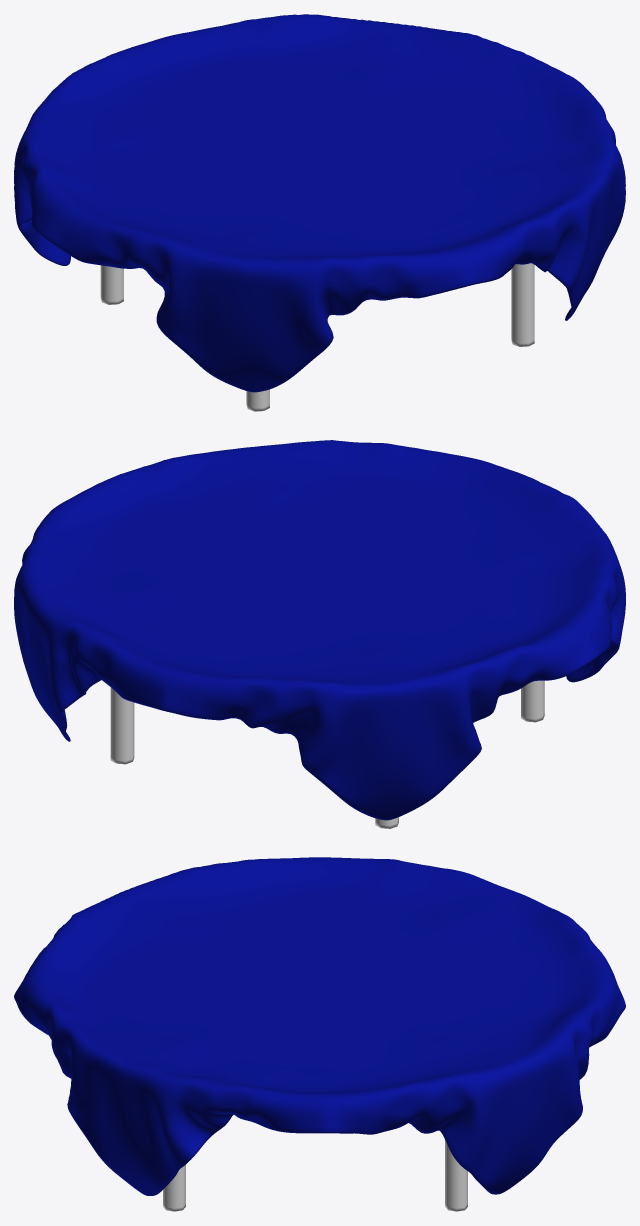
The model's file is coffe table.fbx.
3 views of the same model, one above another, from view 1: azimuth 30°, elevation 25°; view 2: azimuth 150°, elevation 25°; view 3: azimuth 270°, elevation 25° (orthographic). The views are drawn at different scales.
Visible parts, largest first — view 1: Circle; view 2: Circle; view 3: Circle.
Boxes of the visible parts, x1,y1,x2,y2 form: Circle: (14,14,625,411); Circle: (14,440,625,828); Circle: (14,857,625,1211).
Bounding box in the file's own units: 1001 × 314 × 995.
